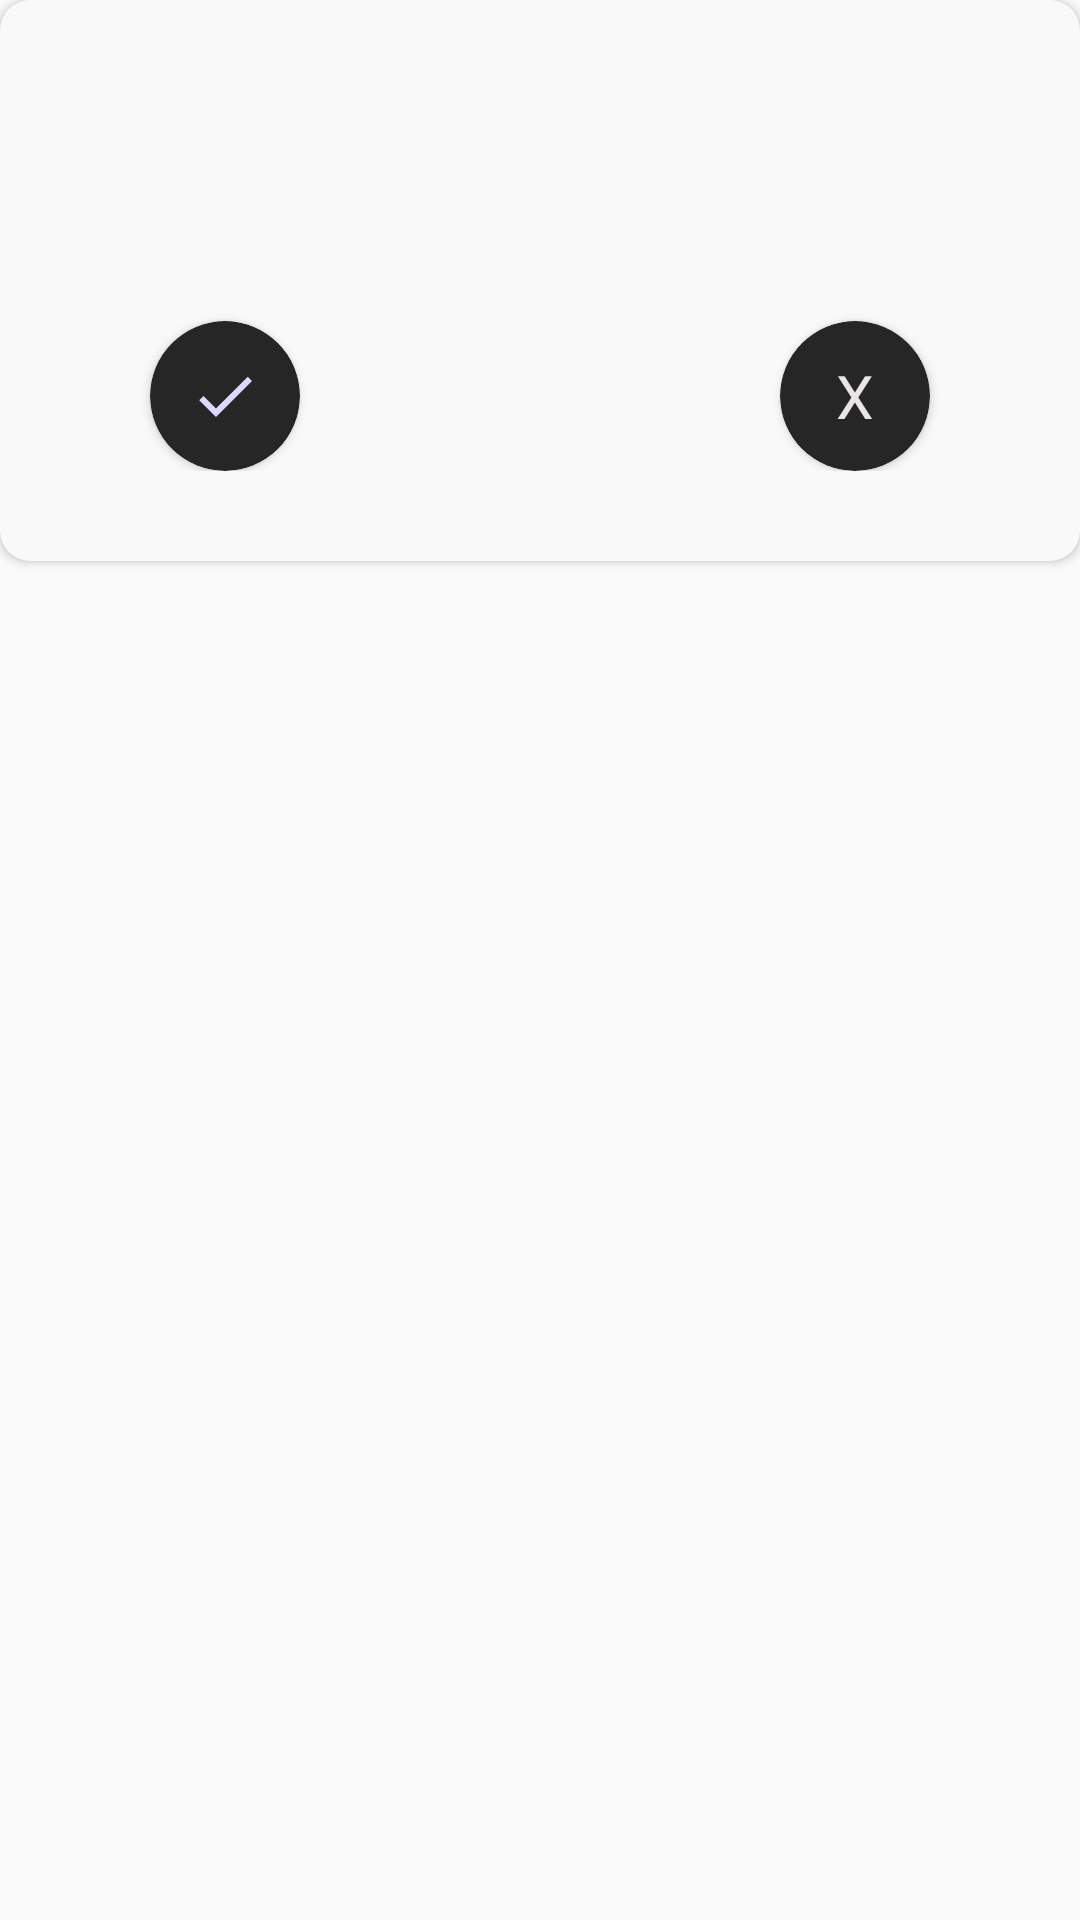

Where to tap for icons on this 1080x1920 app screen, as [x,y]:
check: [225,397]
